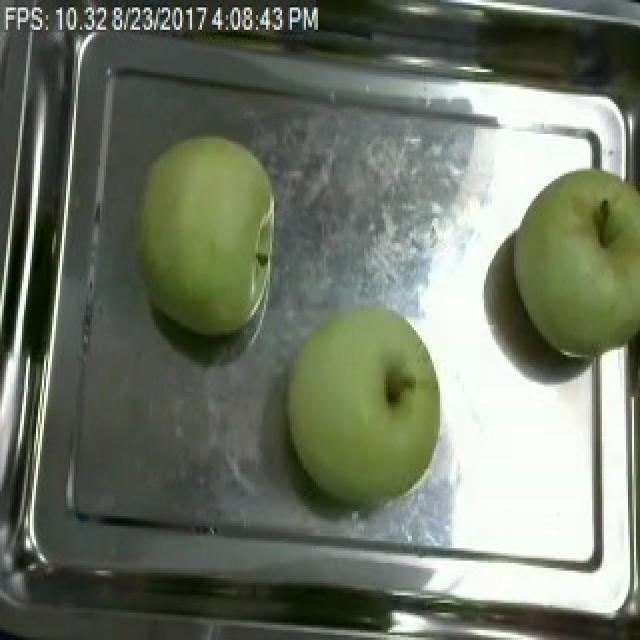50-_ripeness: (283, 295, 447, 506), (136, 129, 279, 337), (509, 162, 640, 371)
